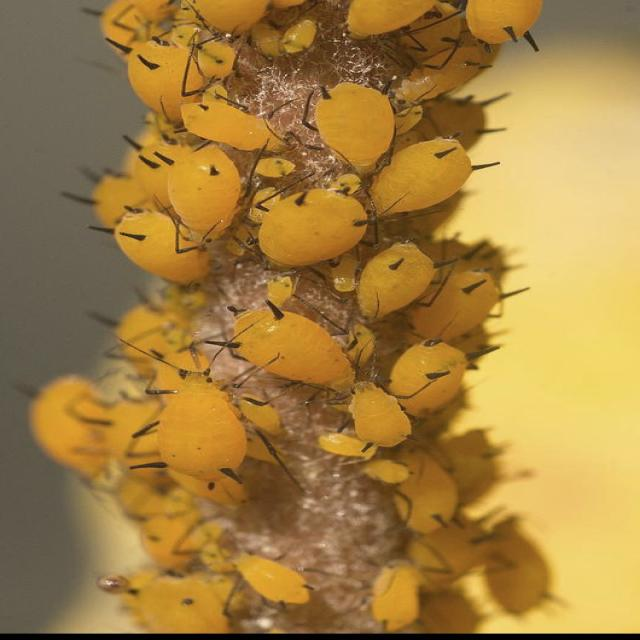Aphids: (108, 328, 290, 514), (198, 262, 372, 410), (227, 172, 381, 299), (280, 65, 430, 175), (81, 202, 210, 300), (326, 237, 454, 332), (205, 535, 332, 619), (162, 84, 312, 150), (160, 143, 243, 247), (336, 362, 421, 460)
